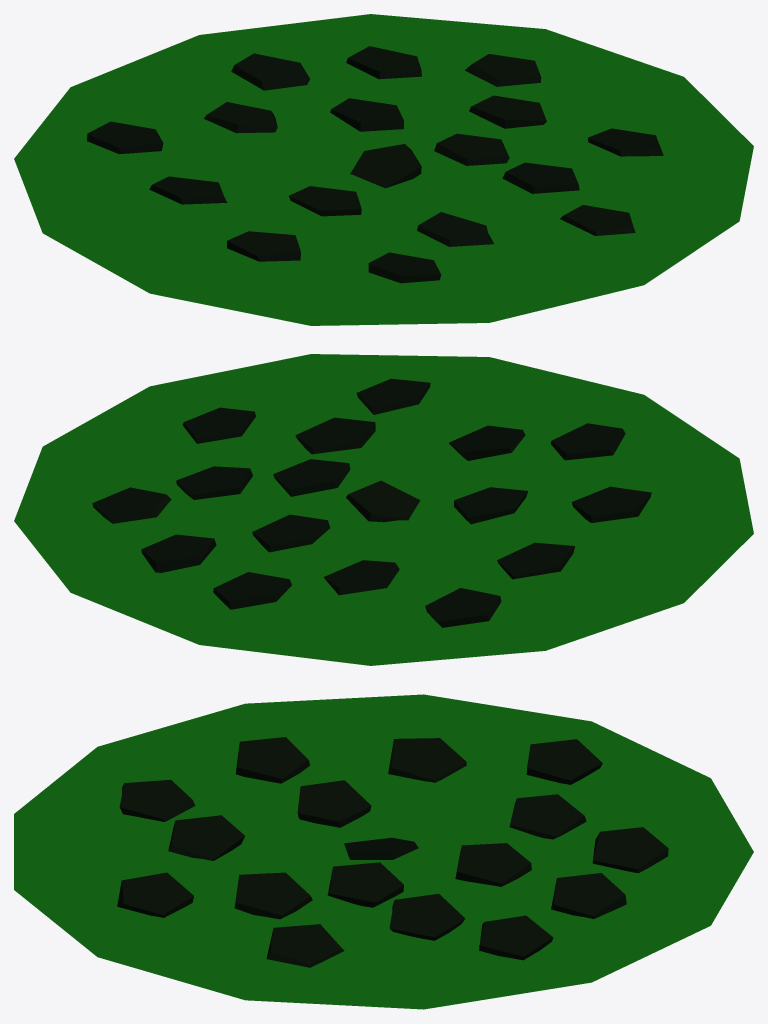
Rendered from soup.obj.
The picture shows the model from 3 angles, top to bottom: view 1: azimuth 30°, elevation 25°; view 2: azimuth 150°, elevation 25°; view 3: azimuth 270°, elevation 25°; orthographic projection.
Visible parts, largest first — view 1: Circle; view 2: Circle; view 3: Circle.
Boxes of the visible parts, <box> form: Circle: <box>14,14,753,325</box>; Circle: <box>14,354,753,665</box>; Circle: <box>14,694,753,1009</box>.
Bounding box in the file's own units: 0.8556 × 0.0309 × 0.8493.
